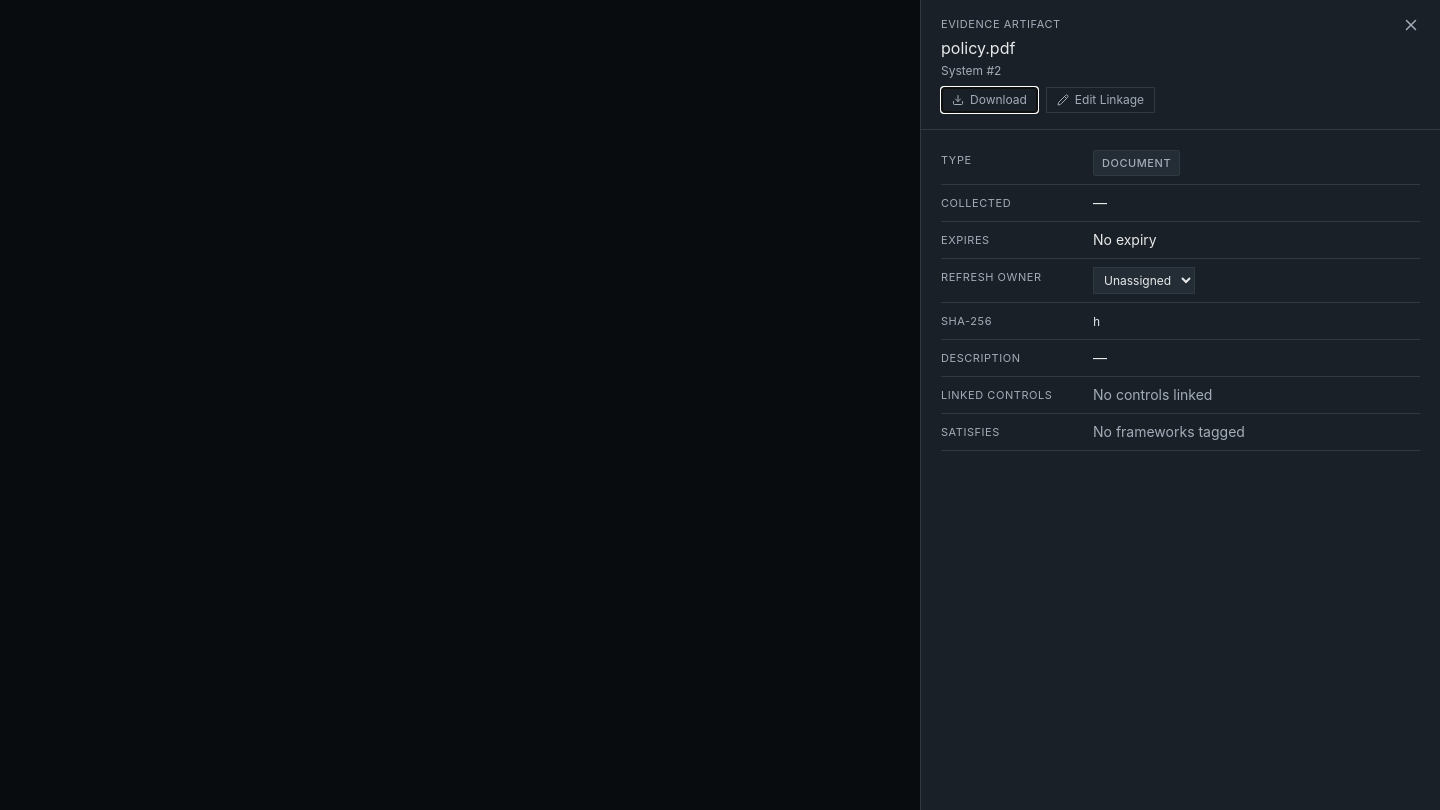
it: EvidenceDetailPanel › shows crosswalk suggestions right after saving a new linkage (E2E-20)
What coordinates should you click on to do the following:
click the button "Edit Linkage"
I would click on:
 (1100, 100)
Its box is [1046,86,1155,112].
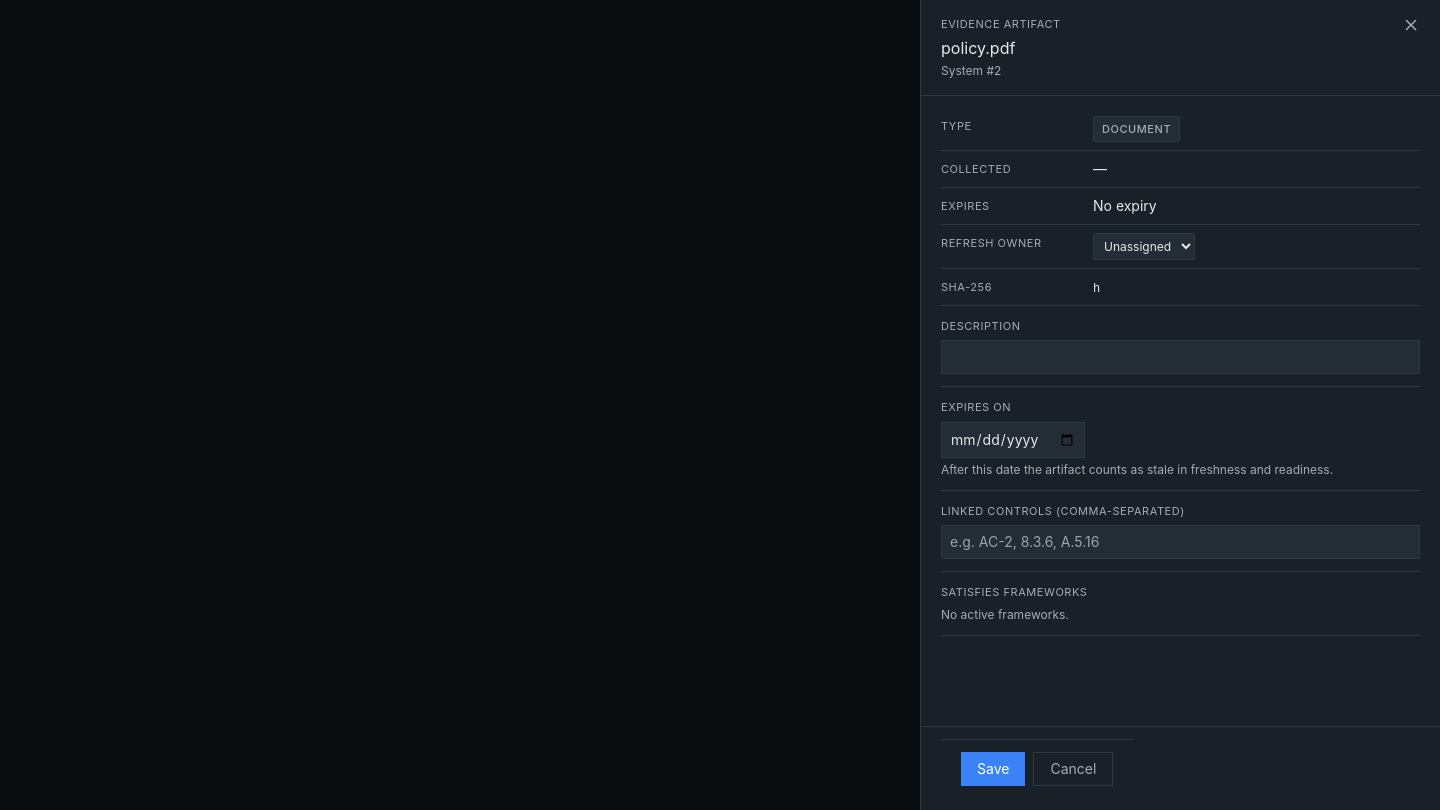
What coordinates should you click on to do the following:
click the button "Save"
I would click on:
 (993, 769)
Its box is [961,752,1025,786].
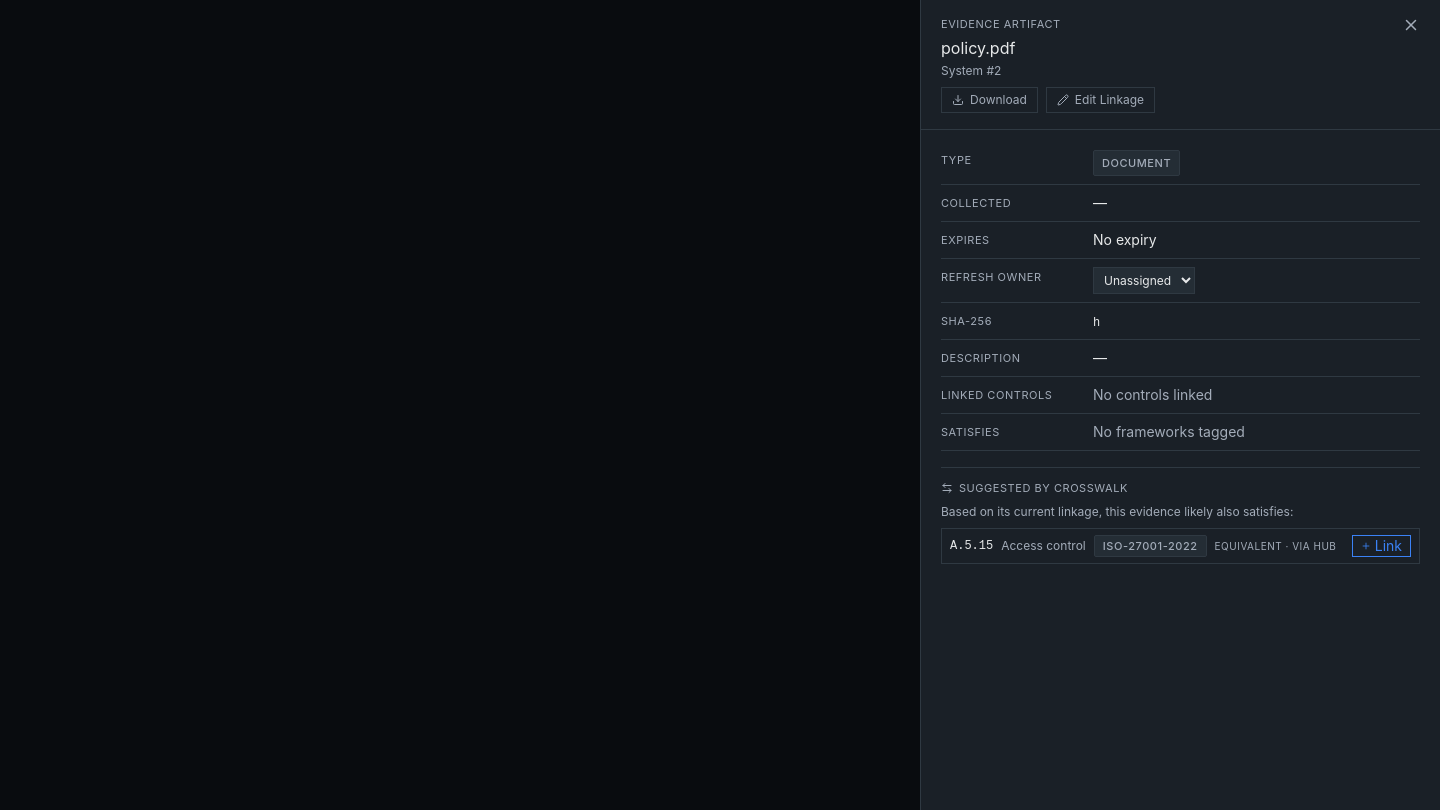
Expected: the text "Suggested by Crosswalk" is shown, [941,480,1128,494]
